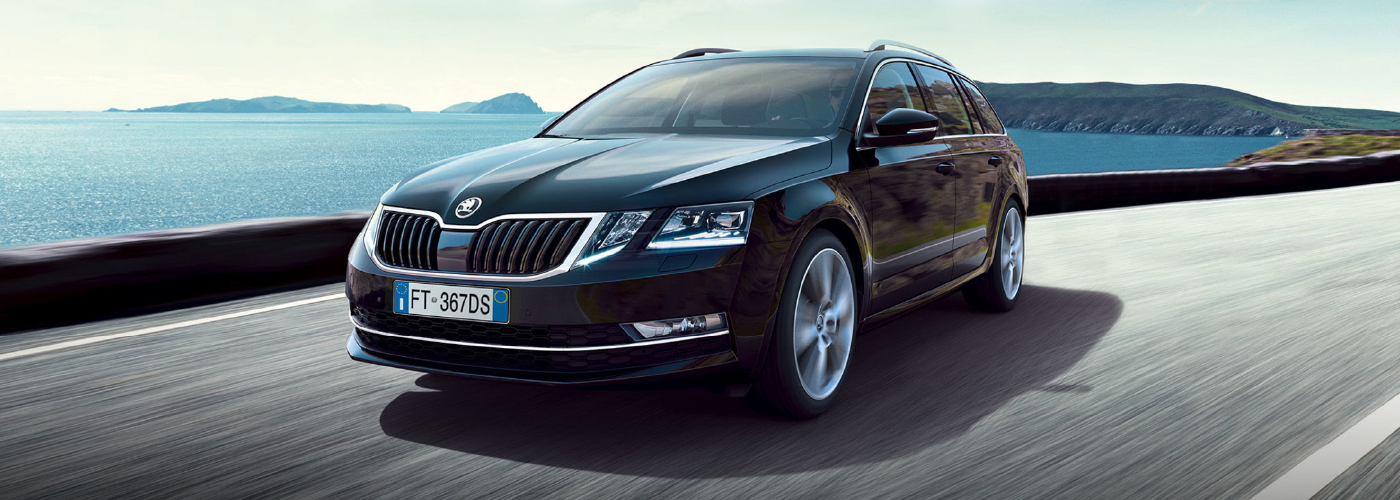license_plate: (392, 280, 509, 323)
